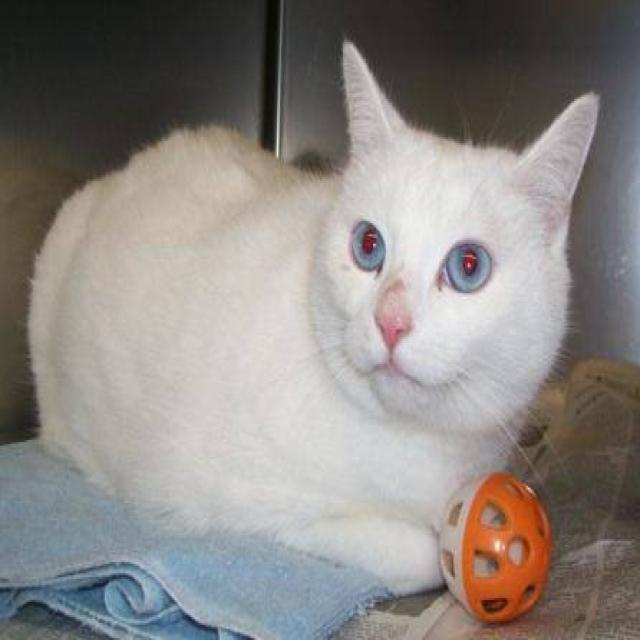cat: (24, 36, 600, 598)
